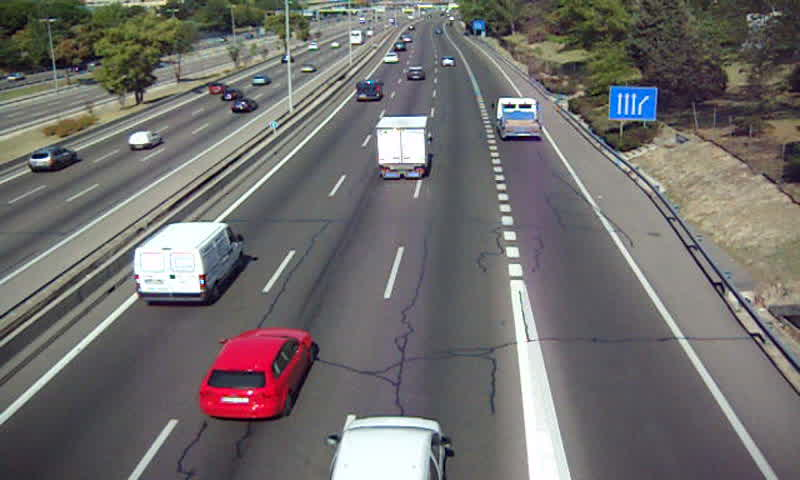car: (200, 328, 313, 419), (405, 64, 426, 82), (382, 51, 398, 65), (441, 56, 457, 68)
small-truck: (376, 116, 430, 179), (494, 97, 542, 137)
van: (135, 223, 243, 303), (354, 77, 384, 102)
